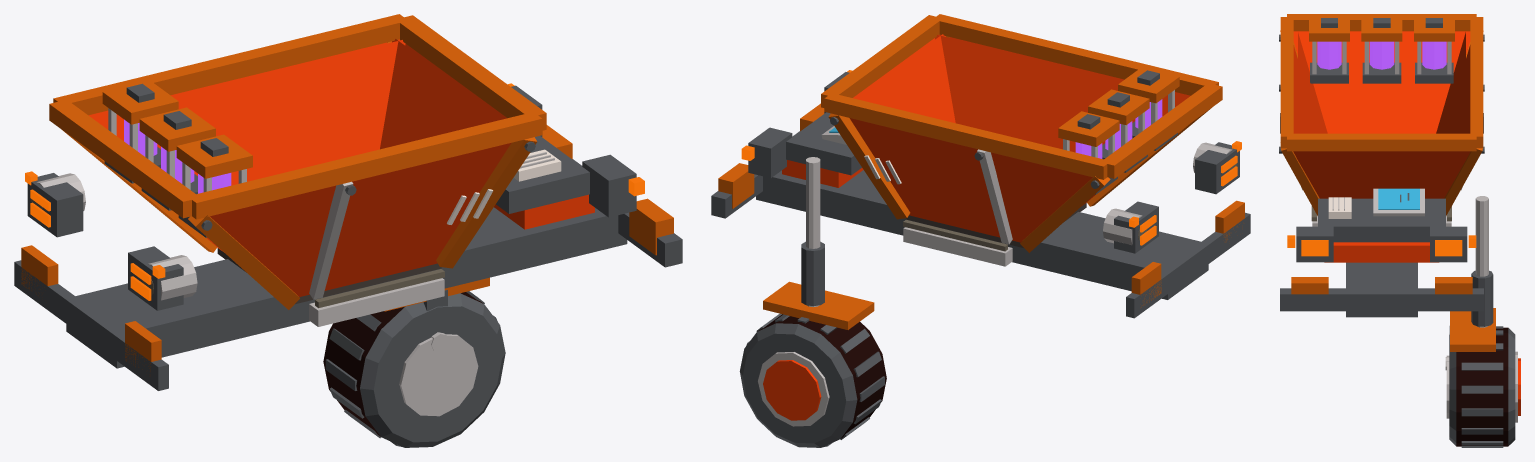
The picture shows the model from 3 angles, left to right: view 1: azimuth 30°, elevation 25°; view 2: azimuth 150°, elevation 25°; view 3: azimuth 270°, elevation 25°; orthographic projection. The views are drawn at different scales.
Parts seen in each view (by area): view 1: common, bodyPainted.001, wheel.006, cellsCage.005, cellsCage.004, cellsCage.003, energy.001, wheelGuard.001; view 2: common, bodyPainted.001, wheel.006, wheelSuspension.002, wheelGuard.001, wheelPainted, cellsCage.003, cellsCage.004, cellsCage.005, energy.001; view 3: common, bodyPainted.001, wheel.006, wheelSuspension.002, cellsCage.004, cellsCage.003, cellsCage.005, wheelGuard.001, headlights.001, cellsEnergy.004, cellsEnergy.003, cellsEnergy.005.
Part boxes in pixels (bbox=[...]): common: bbox=[14, 14, 682, 390]; bodyPainted.001: bbox=[89, 39, 594, 296]; wheel.006: bbox=[323, 291, 505, 447]; cellsCage.005: bbox=[176, 134, 252, 237]; cellsCage.004: bbox=[139, 107, 215, 210]; cellsCage.003: bbox=[102, 80, 178, 183]; energy.001: bbox=[30, 198, 444, 308]; wheelGuard.001: bbox=[384, 277, 489, 352]; common: bbox=[711, 14, 1250, 318]; bodyPainted.001: bbox=[782, 34, 1190, 242]; wheel.006: bbox=[739, 313, 886, 447]; wheelSuspension.002: bbox=[801, 157, 824, 307]; wheelGuard.001: bbox=[763, 281, 874, 329]; wheelPainted: bbox=[763, 360, 821, 420]; cellsCage.003: bbox=[1058, 111, 1119, 194]; cellsCage.004: bbox=[1088, 89, 1149, 172]; cellsCage.005: bbox=[1118, 67, 1179, 150]; energy.001: bbox=[903, 163, 1237, 251]; common: bbox=[1279, 14, 1484, 317]; bodyPainted.001: bbox=[1293, 31, 1470, 262]; wheel.006: bbox=[1446, 326, 1517, 447]; wheelSuspension.002: bbox=[1471, 196, 1493, 327]; cellsCage.004: bbox=[1361, 17, 1402, 83]; cellsCage.003: bbox=[1414, 17, 1454, 83]; cellsCage.005: bbox=[1309, 17, 1349, 83]; wheelGuard.001: bbox=[1445, 308, 1495, 370]; headlights.001: bbox=[1301, 240, 1462, 256]; cellsEnergy.004: bbox=[1369, 41, 1394, 69]; cellsEnergy.003: bbox=[1422, 41, 1446, 69]; cellsEnergy.005: bbox=[1317, 41, 1341, 69].
Size of the model in its own units: 2.98 by 2.42 by 1.68.
Materials: 5 (1 with a texture image).
